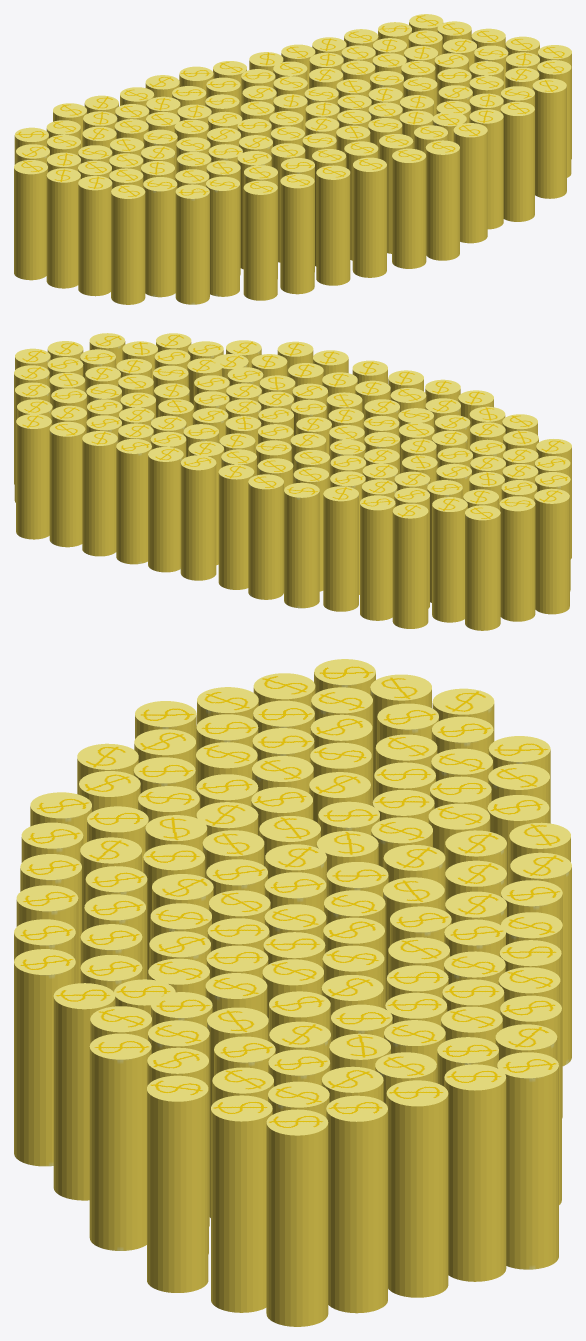
File: coins.glb
The picture shows the model from 3 angles, top to bottom: view 1: azimuth 30°, elevation 25°; view 2: azimuth 150°, elevation 25°; view 3: azimuth 270°, elevation 25°; orthographic projection. The views are drawn at different scales.
Visible parts, largest first — view 1: Cylinder.059, Cylinder.061, Cylinder.008, Cylinder.018, Cylinder.060, Cylinder.063, Cylinder.065, Cylinder.067, Cylinder.001, Cylinder.007, Cylinder.025, Cylinder.104 (+108 smaller); view 2: Cylinder.117, Cylinder.125, Cylinder.030, Cylinder.122, Cylinder.123, Cylinder.031, Cylinder.121, Cylinder.025, Cylinder.114, Cylinder.115, Cylinder.116, Cylinder.124 (+108 smaller); view 3: Cylinder.095, Cylinder.104, Cylinder.112, Cylinder.111, Cylinder.113, Cylinder.110, Cylinder.091, Cylinder.116, Cylinder.067, Cylinder.090, Cylinder.121, Cylinder.063 (+108 smaller).
Boxes of the visible parts, <box> form: Cylinder.059: <box>243,180,277,300</box>; Cylinder.061: <box>316,165,350,285</box>; Cylinder.008: <box>111,184,145,304</box>; Cylinder.018: <box>175,184,209,304</box>; Cylinder.060: <box>280,174,314,294</box>; Cylinder.063: <box>352,157,386,277</box>; Cylinder.065: <box>392,148,426,268</box>; Cylinder.067: <box>425,140,459,260</box>; Cylinder.001: <box>46,168,80,288</box>; Cylinder.007: <box>78,176,112,296</box>; Cylinder.025: <box>14,160,47,280</box>; Cylinder.104: <box>532,78,566,198</box>; Cylinder.117: <box>180,455,216,580</box>; Cylinder.125: <box>392,503,428,628</box>; Cylinder.030: <box>499,496,535,621</box>; Cylinder.122: <box>284,482,319,608</box>; Cylinder.123: <box>323,486,358,611</box>; Cylinder.031: <box>465,505,500,630</box>; Cylinder.121: <box>248,474,283,599</box>; Cylinder.025: <box>534,488,569,614</box>; Cylinder.114: <box>82,431,117,556</box>; Cylinder.115: <box>49,421,85,547</box>; Cylinder.116: <box>16,414,51,539</box>; Cylinder.124: <box>360,495,395,620</box>; Cylinder.095: <box>266,1109,328,1326</box>; Cylinder.104: <box>147,1075,208,1292</box>; Cylinder.112: <box>386,1080,448,1297</box>; Cylinder.111: <box>326,1095,387,1313</box>; Cylinder.113: <box>444,1064,506,1281</box>; Cylinder.110: <box>89,1033,151,1250</box>; Cylinder.091: <box>211,1095,272,1312</box>; Cylinder.116: <box>497,1052,558,1269</box>; Cylinder.067: <box>14,949,75,1166</box>; Cylinder.090: <box>53,983,115,1200</box>; Cylinder.121: <box>510,852,571,1066</box>; Cylinder.063: <box>16,885,78,983</box>.
Bounding box in the file's own units: 36.47 × 6.83 × 18.04.
27 materials, 27 textured.
